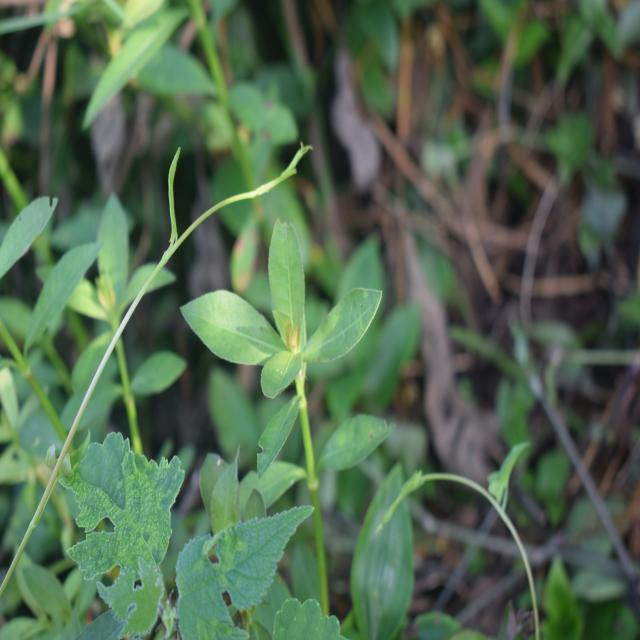Alligatorweed: (180, 208, 394, 494)
